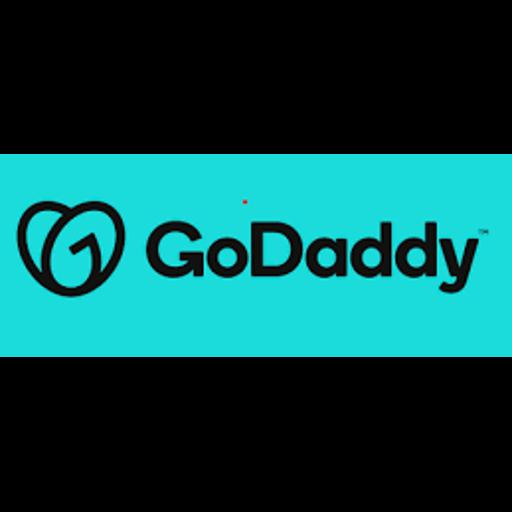GoDaddy: (0, 154, 512, 357)
